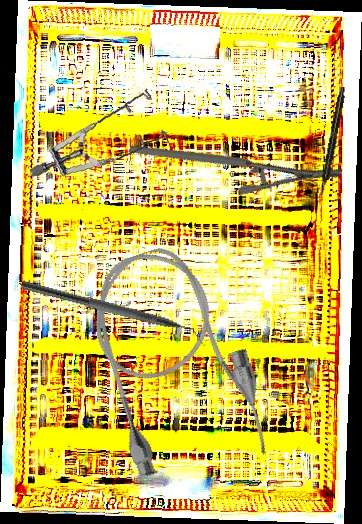Cannula: (72, 232, 279, 492)
Chopper: (16, 279, 212, 349)
Handpiece: (317, 86, 348, 196)
Needle Holder: (127, 80, 344, 241)
Speculum: (29, 73, 175, 195)
